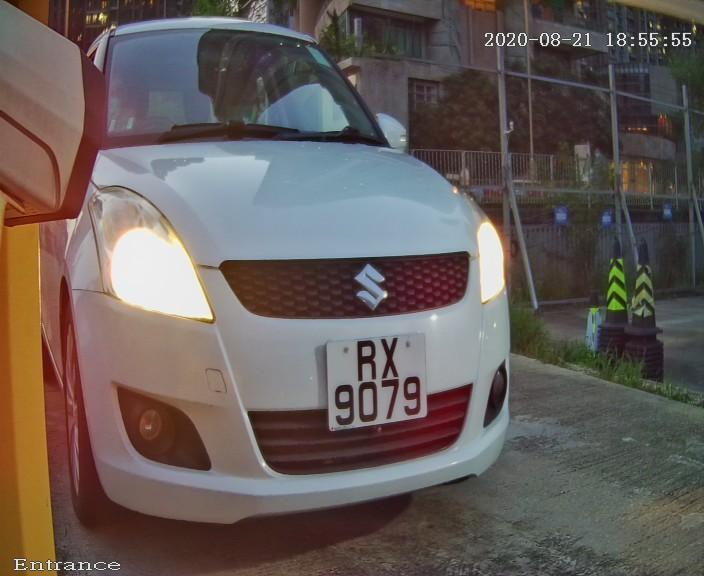Car: (10, 1, 576, 576)
License Plate: (318, 322, 441, 443)
